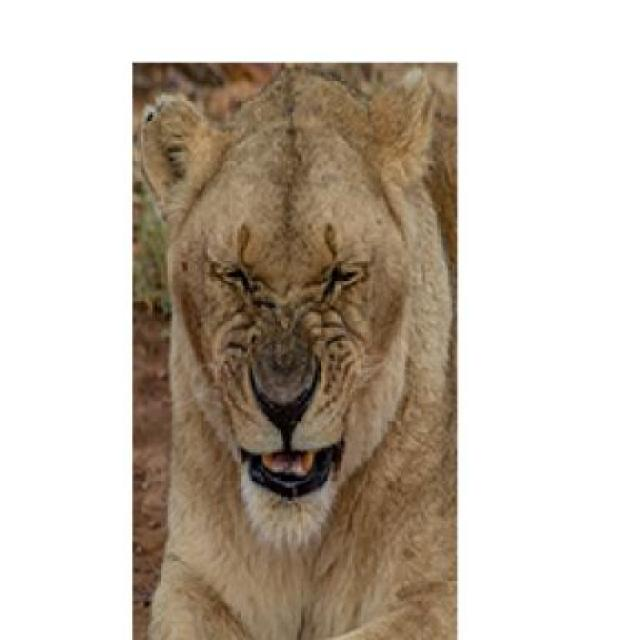Lion: (95, 51, 468, 638)
